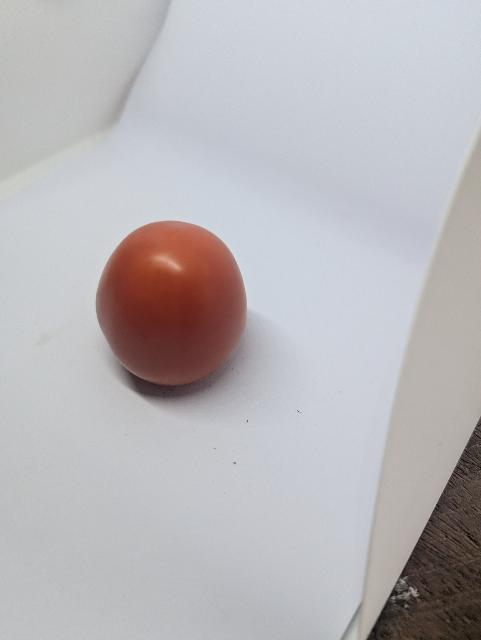red: (91, 217, 259, 404)
